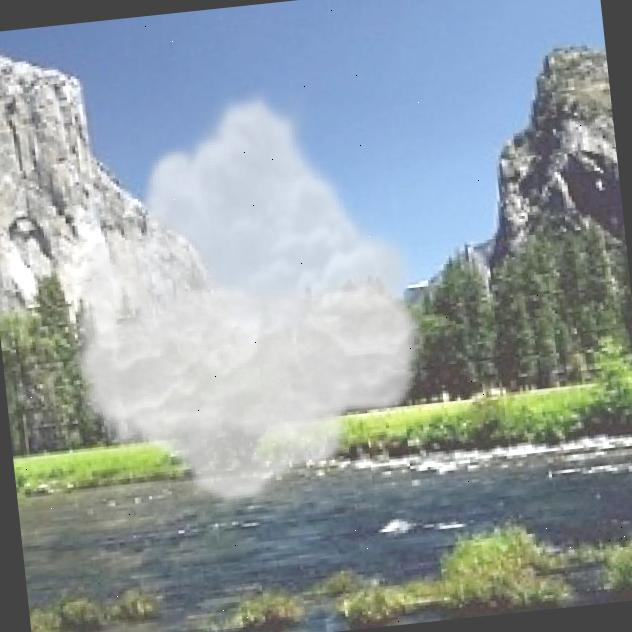smoke: (40, 74, 446, 523)
